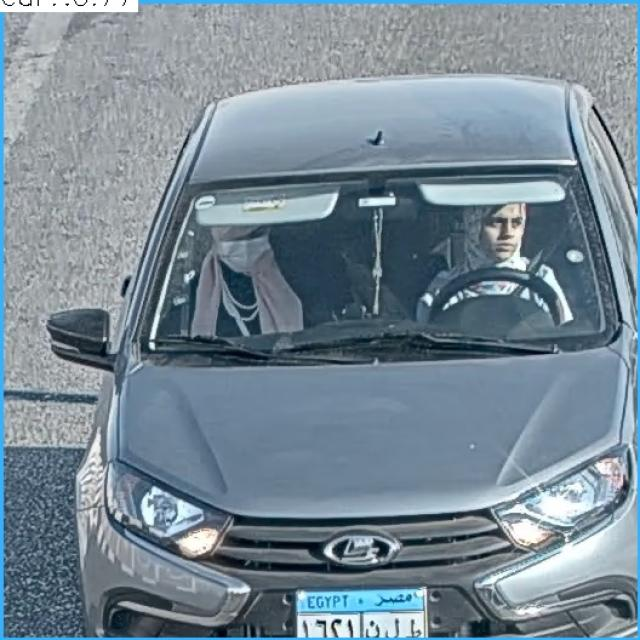windshield: (137, 182, 619, 353)
